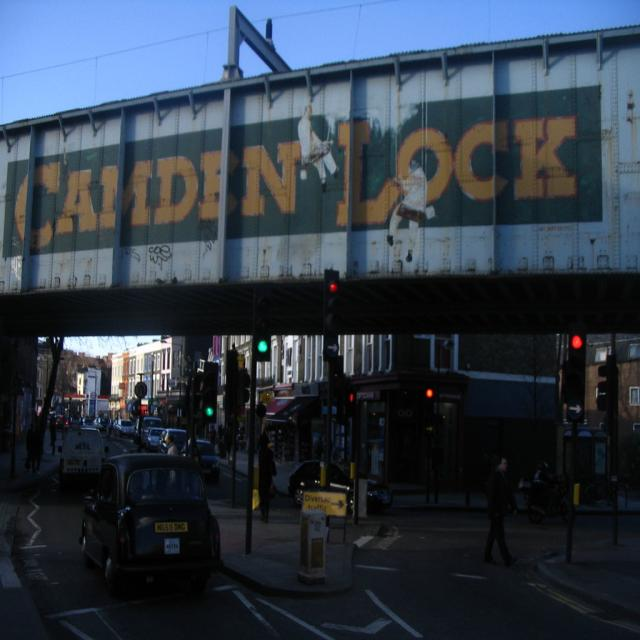car: (80, 451, 221, 587)
